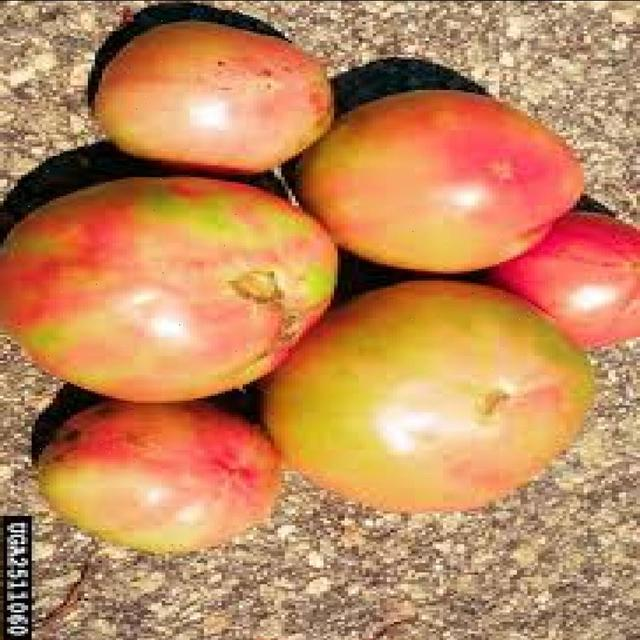Spotted wilt Virus Fruit: (103, 64, 375, 318)
